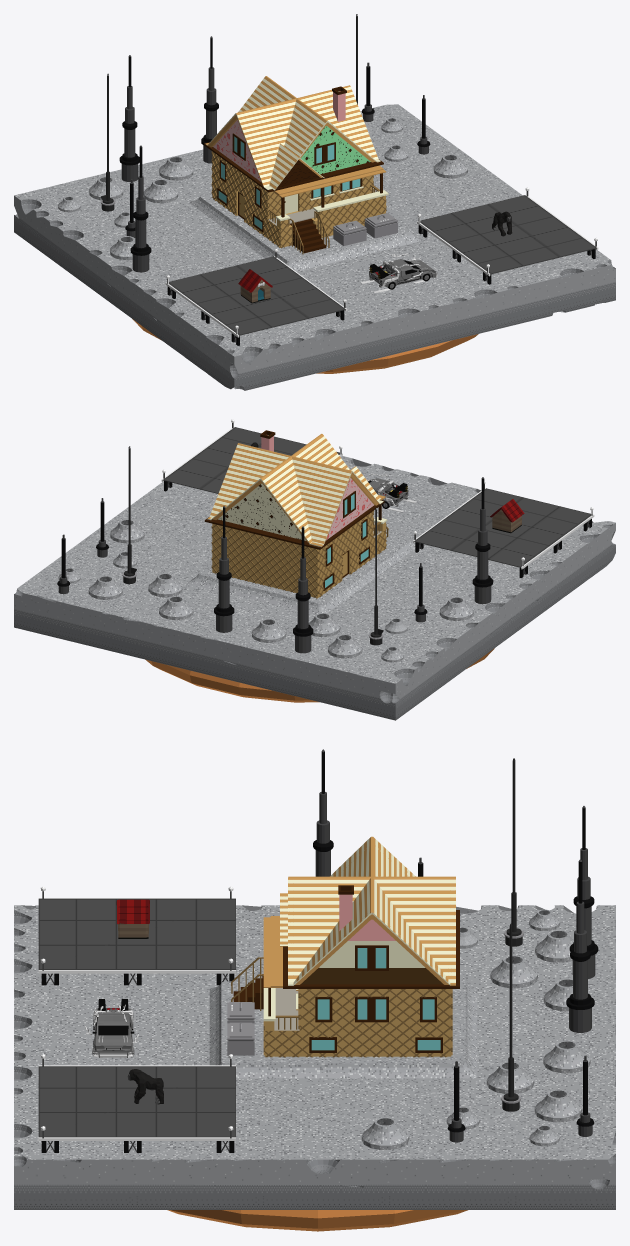
3 renders of one model, top to bottom at view 1: azimuth 30°, elevation 25°; view 2: azimuth 150°, elevation 25°; view 3: azimuth 270°, elevation 25°, orthographic. The views are drawn at different scales.
Parts seen in each view (by area): view 1: Cube.027, Cube.1102, Cube.026, Cube.025, Cube.028, VEHICLES_DELOREAN, UNDERGROUND_PIZZA, Cylinder.021, Cylinder.020, Cylinder.017, OBJRANDOM_DOGHOUSE, Cube.029 (+5 smaller); view 2: Cube.027, Cube.1102, Cube.025, Cube.028, Cube.026, UNDERGROUND_PIZZA, Cylinder.021, Cylinder.020, Cylinder.017, VEHICLES_DELOREAN, OBJRANDOM_DOGHOUSE, Cylinder.030 (+9 smaller); view 3: Cube.027, Cube.1102, Cube.026, Cube.025, Cube.028, UNDERGROUND_PIZZA, Cylinder.017, VEHICLES_DELOREAN, Cylinder.020, Cylinder.021, OBJRANDOM_DOGHOUSE, Cylinder.031 (+11 smaller).
Part boxes in pixels (box(x1,y1,x2,y2)): Cube.027: box(14, 104, 615, 390); Cube.1102: box(204, 76, 388, 254); Cube.026: box(417, 187, 598, 284); Cube.025: box(165, 249, 347, 345); Cube.028: box(190, 193, 420, 271); VEHICLES_DELOREAN: box(361, 253, 437, 293); UNDERGROUND_PIZZA: box(132, 319, 478, 373); Cylinder.021: box(130, 145, 151, 272); Cylinder.020: box(119, 55, 139, 181); Cylinder.017: box(201, 36, 218, 163); OBJRANDOM_DOGHOUSE: box(238, 269, 272, 303); Cube.029: box(333, 220, 366, 245); Cube.027: box(14, 456, 615, 720); Cube.1102: box(204, 430, 388, 598); Cube.025: box(413, 481, 594, 577); Cube.028: box(188, 533, 415, 614); Cube.026: box(161, 419, 342, 493); UNDERGROUND_PIZZA: box(145, 648, 494, 702); Cylinder.021: box(472, 477, 493, 604); Cylinder.020: box(293, 526, 313, 653); Cylinder.017: box(214, 505, 234, 632); VEHICLES_DELOREAN: box(367, 473, 416, 512); OBJRANDOM_DOGHOUSE: box(490, 499, 524, 533); Cylinder.030: box(148, 573, 182, 597); Cube.027: box(14, 905, 615, 1209); Cube.1102: box(231, 836, 459, 1057); Cube.026: box(38, 1054, 235, 1152); Cube.025: box(38, 886, 235, 985); Cube.028: box(209, 981, 477, 1078); UNDERGROUND_PIZZA: box(167, 1210, 467, 1231); Cylinder.017: box(566, 859, 594, 1032); VEHICLES_DELOREAN: box(84, 999, 138, 1057); Cylinder.020: box(569, 806, 598, 978); Cylinder.021: box(313, 749, 333, 876); OBJRANDOM_DOGHOUSE: box(116, 899, 149, 938); Cylinder.031: box(534, 1089, 582, 1122).
Bounding box in the file's own units: 4000 × 2011 × 4000.
42 materials, 5 textured.
